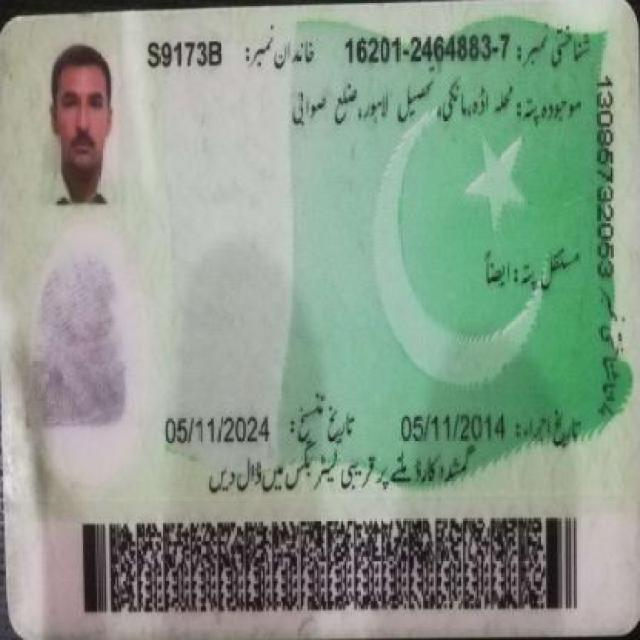Back: (6, 12, 622, 617)
